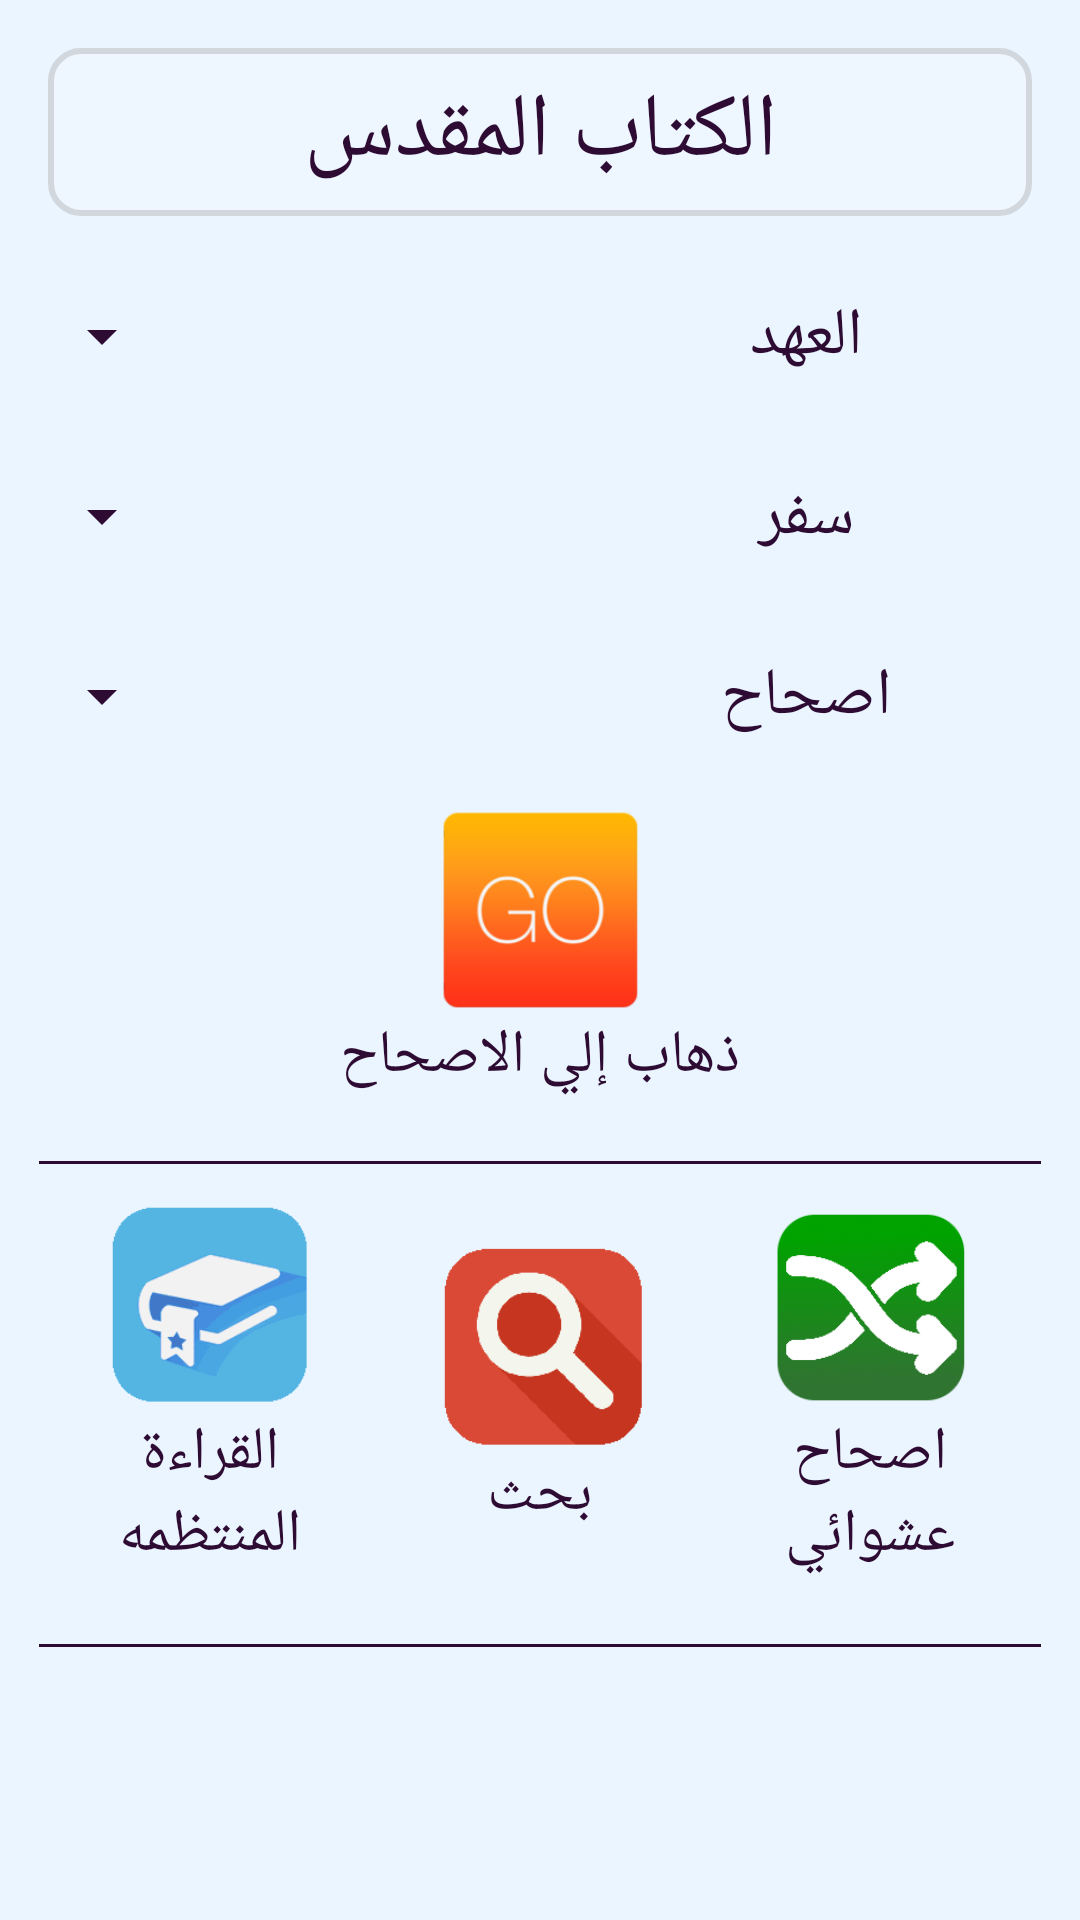

Screen size 1080×1920. Icon name, then its box in pixels as {"x1": x1, "y1": y1, "x2": x2, "y2": y2}:
bible random: {"x1": 777, "y1": 1214, "x2": 965, "y2": 1401}
